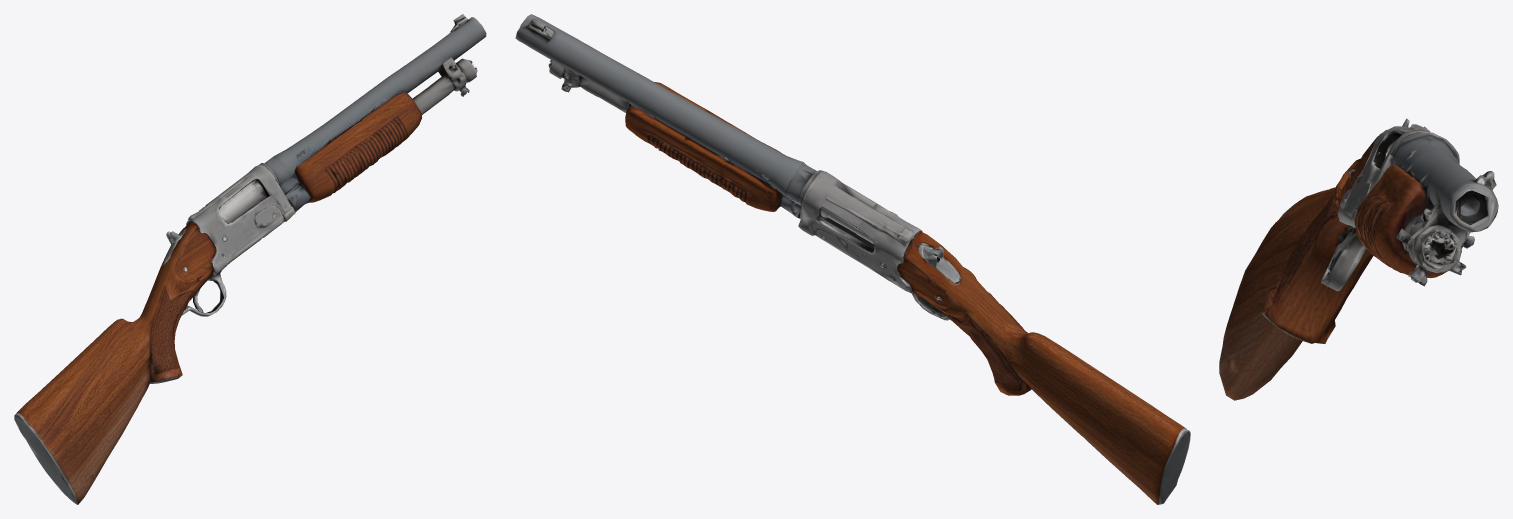
File: shotgun.glb
3 renders of one model, left to right at view 1: azimuth 30°, elevation 25°; view 2: azimuth 150°, elevation 25°; view 3: azimuth 270°, elevation 25°, orthographic. The views are drawn at different scales.
Visible parts, largest first — view 1: tripo_node_64eadbf5-f419-4eff-8f2c-b4c6b8494eb8; view 2: tripo_node_64eadbf5-f419-4eff-8f2c-b4c6b8494eb8; view 3: tripo_node_64eadbf5-f419-4eff-8f2c-b4c6b8494eb8.
Boxes of the visible parts, <box> form: tripo_node_64eadbf5-f419-4eff-8f2c-b4c6b8494eb8: <box>14,14,486,504</box>; tripo_node_64eadbf5-f419-4eff-8f2c-b4c6b8494eb8: <box>515,14,1190,504</box>; tripo_node_64eadbf5-f419-4eff-8f2c-b4c6b8494eb8: <box>1219,118,1498,400</box>.
Bounding box in the file's own units: 0.9787 × 0.6196 × 0.2349.
Materials: 1 (1 with a texture image).
